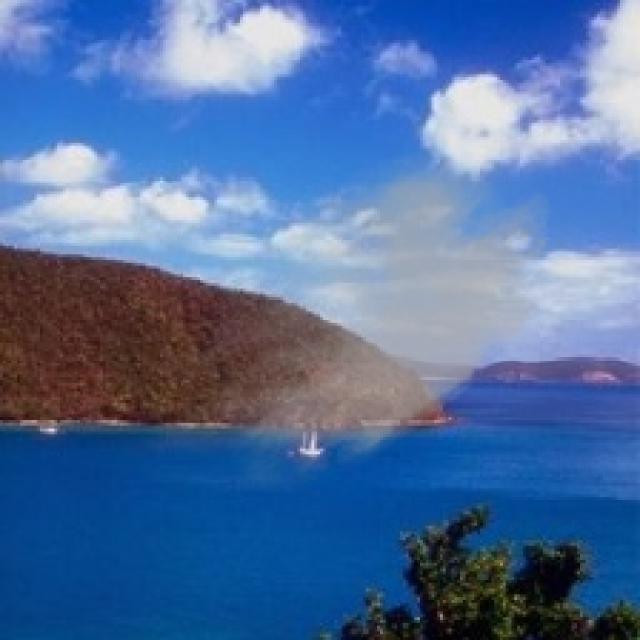Smoke: (157, 134, 566, 497)
